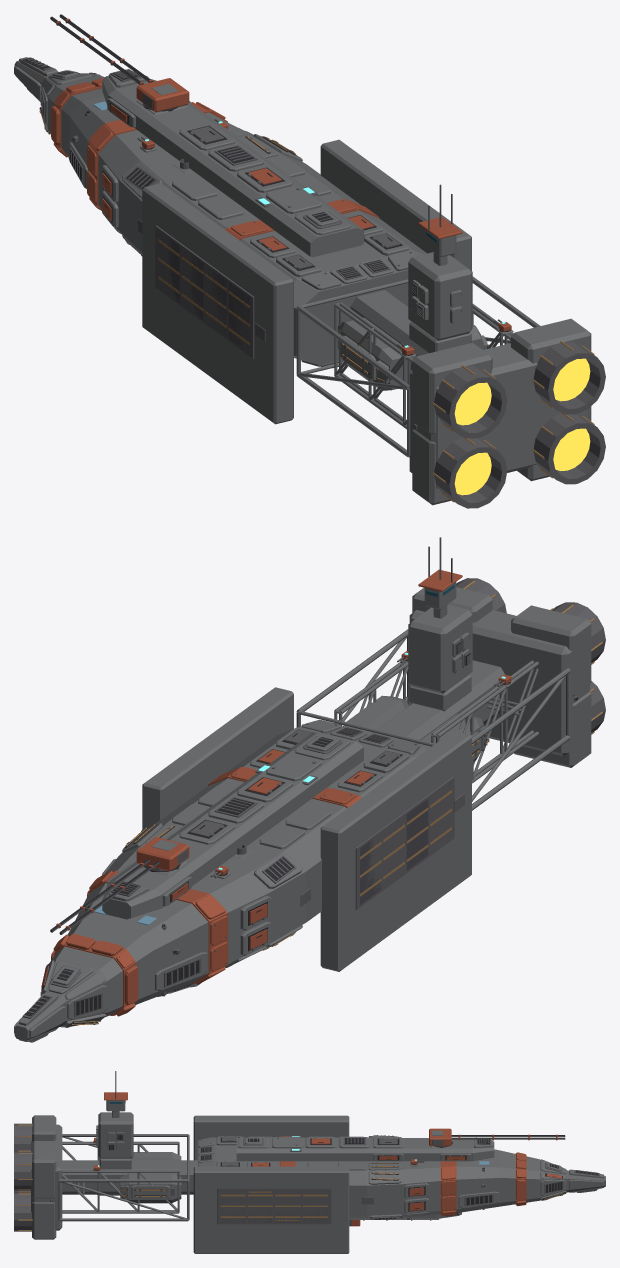
The model's file is mars_battleship_t5.glb.
The picture shows the model from 3 angles, top to bottom: view 1: azimuth 30°, elevation 25°; view 2: azimuth 150°, elevation 25°; view 3: azimuth 270°, elevation 25°; orthographic projection. The views are drawn at different scales.
Parts seen in each view (by area): view 1: FleetHull, mesh_turret_gun_1, mesh_recoil_gun_1; view 2: FleetHull, mesh_turret_gun_1, mesh_recoil_gun_1; view 3: FleetHull, mesh_recoil_gun_1, mesh_turret_gun_1.
Boxes of the visible parts, left/top/right/bottom form: FleetHull: left=14, top=57, right=605, bottom=508; mesh_turret_gun_1: left=136, top=78, right=189, bottom=112; mesh_recoil_gun_1: left=50, top=14, right=153, bottom=85; FleetHull: left=14, top=537, right=605, bottom=1042; mesh_turret_gun_1: left=136, top=837, right=189, bottom=871; mesh_recoil_gun_1: left=50, top=858, right=159, bottom=934; FleetHull: left=14, top=1071, right=605, bottom=1253; mesh_recoil_gun_1: left=451, top=1134, right=565, bottom=1140; mesh_turret_gun_1: left=429, top=1128, right=451, bottom=1146.
Bounding box in the file's own units: 254 × 319 × 1103.
